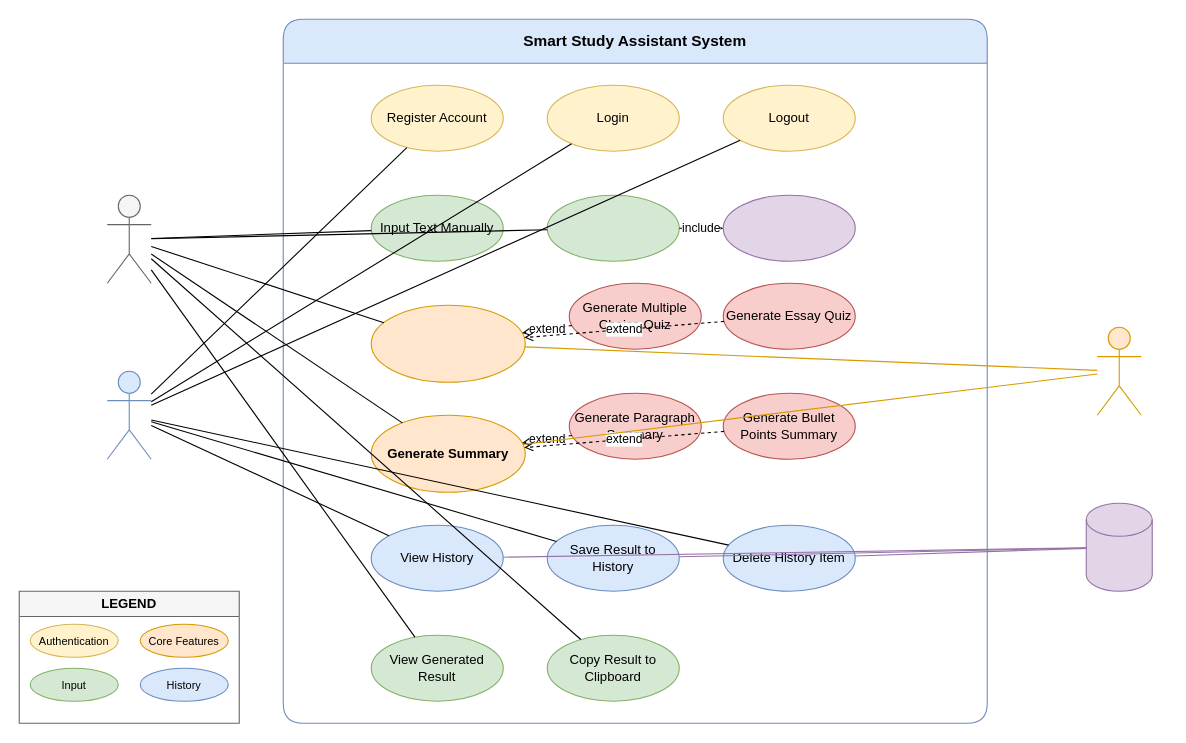
Some shapes in this 1186 by 743 pixel diagram are drawn without their labels. The shapes that lost their labels are listed below. From the top down, each one's centre as x and y in pixels, then its label:
At point (128, 238): "Guest User".
At point (612, 227): "Upload PDF File".
At point (788, 227): "Extract Text from PDF".
At point (447, 343): "Generate Quiz Questions".
At point (1118, 370): "AI System (Qwen2/Gemini)".
At point (128, 414): "Registered User".
At point (1118, 546): "Database".
